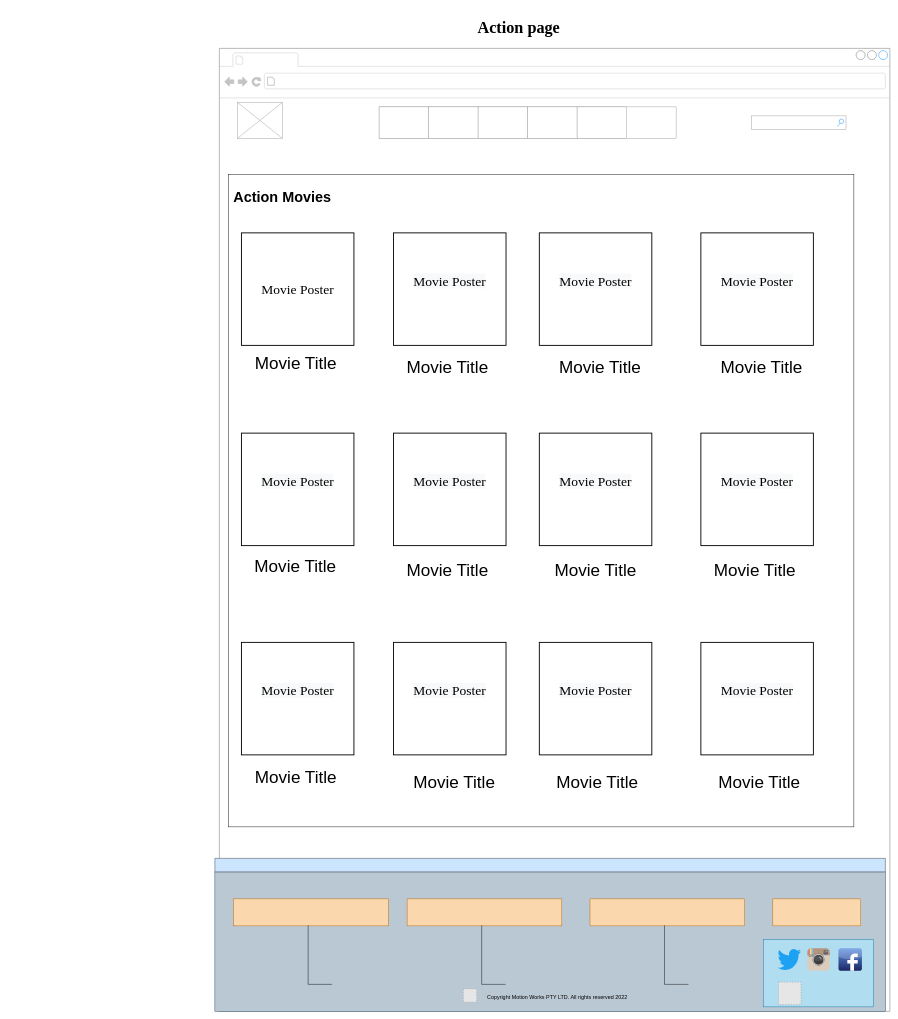
The diagram is 898 pixels wide and 1019 high, and some of its shapes have lost their labels. Grey dashed boxes stand in for pictures. The shapes that lost their labels are listed below. From the top down, each one's box as (x1, y1, x2, y2) in pixels, then its label:
(245, 54, 341, 66): Cinema |Movi
(277, 75, 390, 87): https://wwwmovieworks.com
(751, 115, 846, 129): Search
